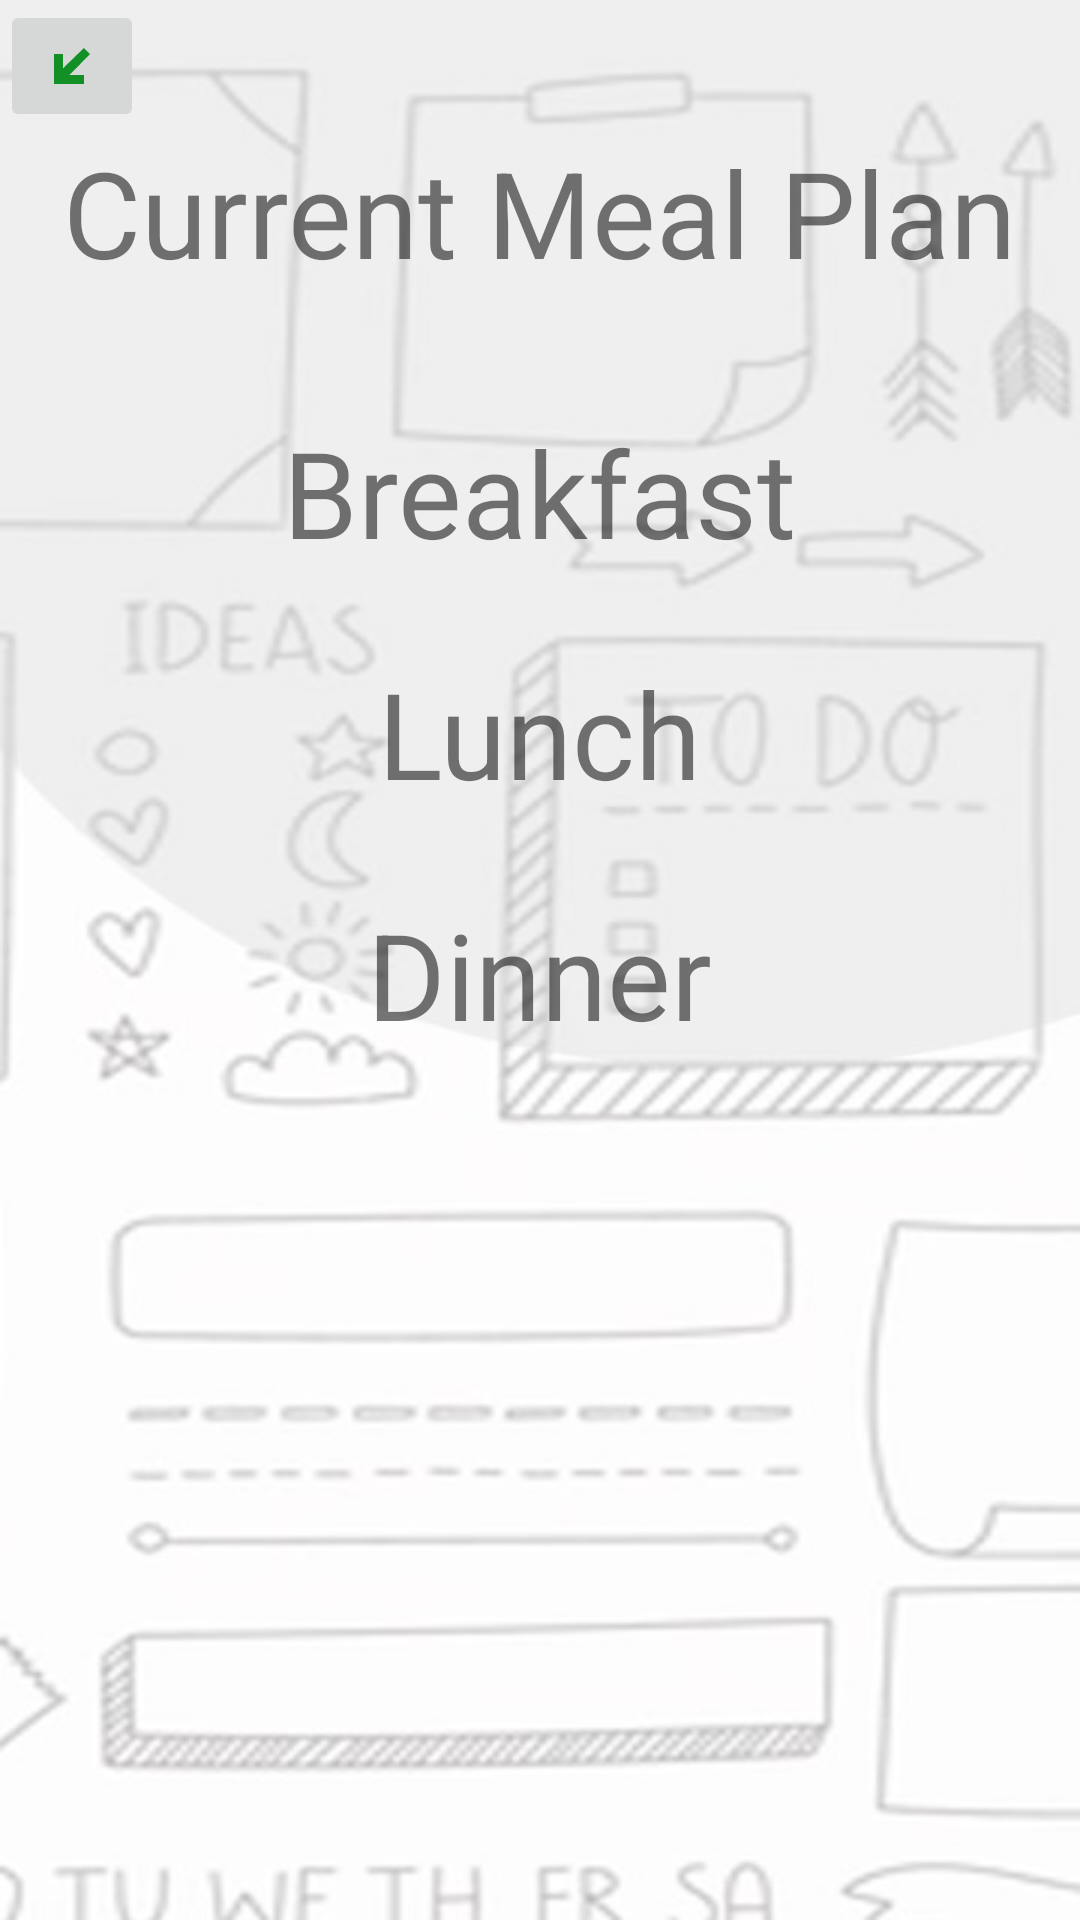

Icons on this 1080×1920 Android screen, each with the point to tap as point (x, y):
exit: point (72, 66)
